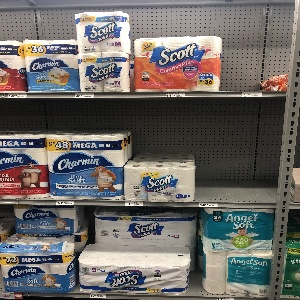void: (193, 100, 278, 202), (220, 11, 264, 91)
